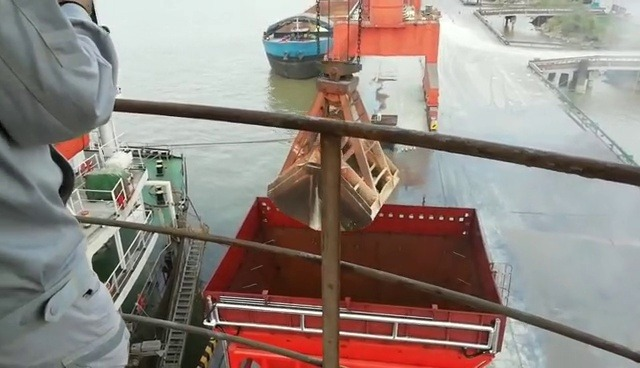grab: (263, 54, 407, 233)
